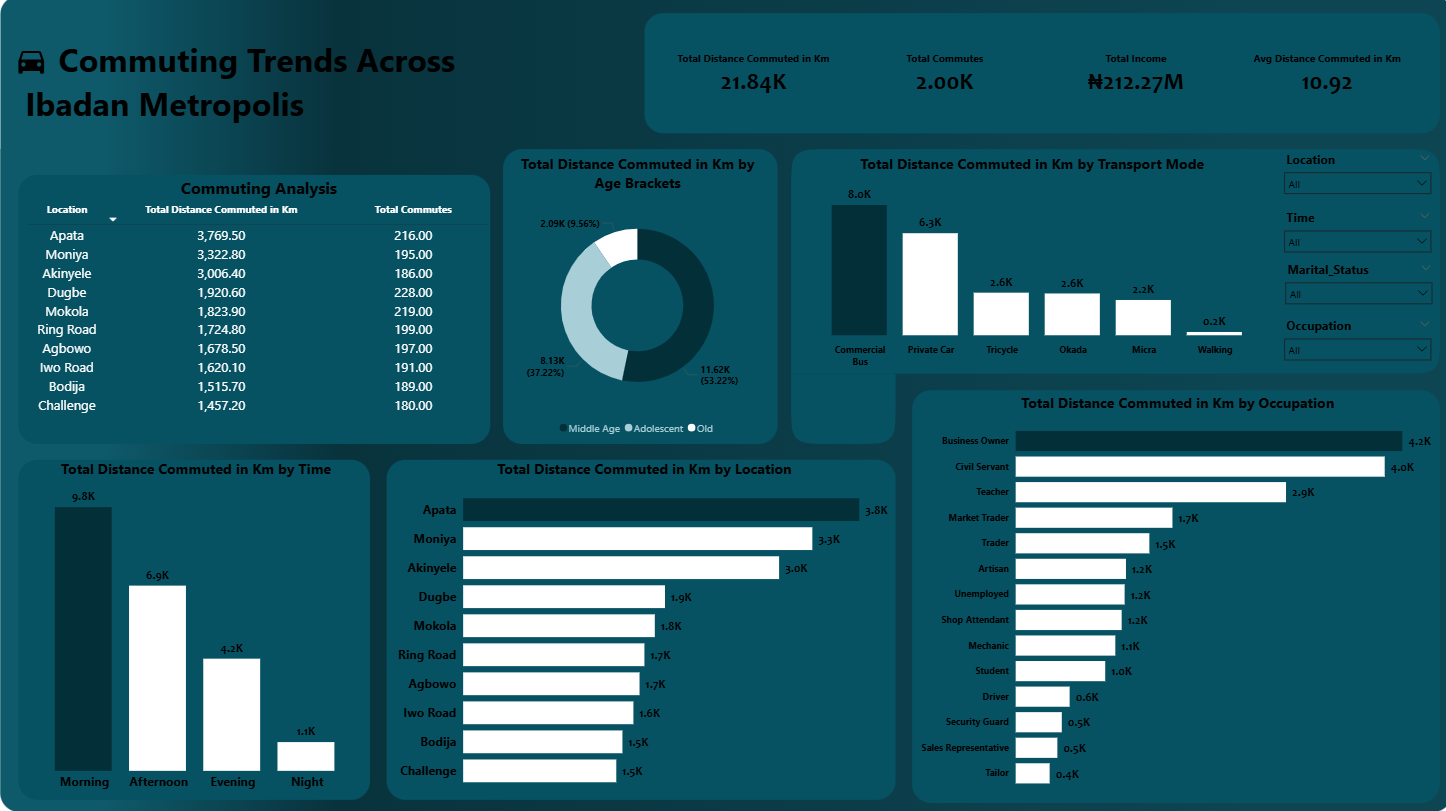

Layout of this report page (visuals, bound fields, positions):
{"tool":"powerbi","page":{"name":"Ibadan Commute","canvas":[1920,1080],"ordinal":0},"visuals":[{"type":"cardVisual","fields":{"Data":["_DAX.Total Distance Commuted","_DAX.Total Commutes","_DAX.Total Income","_DAX.Avg Distance Commuted"]},"box":[856.7,30.8,1039.4,139.4],"z":0},{"type":"textbox","box":[28.3,30,600,188.3],"z":1000},{"type":"donutChart","fields":{"Y":["_DAX.Total Distance Commuted in Km"],"Category":["Ibadan_commute.Age Brackets"]},"box":[665,206.7,358.3,381.7],"z":2000},{"type":"clusteredBarChart","fields":{"Category":["Ibadan_commute.Location"],"Y":["_DAX.Total Distance Commuted in Km"]},"box":[520,610,665,450],"z":3000},{"type":"clusteredColumnChart","fields":{"Category":["Ibadan_commute.Transport Mode"],"Y":["_DAX.Total Distance Commuted in Km"]},"box":[1043.3,206.7,645,291.7],"z":4000},{"type":"slicer","fields":{"Values":["Ibadan_commute.Occupation"]},"box":[1688.3,418.3,215,80],"z":5000},{"type":"slicer","fields":{"Values":["Ibadan_commute.Time"]},"box":[1688.3,275,215,70],"z":6000},{"type":"slicer","fields":{"Values":["Ibadan_commute.Location"]},"box":[1688.3,198.3,215,76.7],"z":7000},{"type":"slicer","fields":{"Values":["Ibadan_commute.Marital_Status"]},"box":[1690,345,215,73.3],"z":8000},{"type":"tableEx","title":"Commuting Analysis","fields":{"Values":["Ibadan_commute.Location","_DAX.Total Distance Commuted in Km","_DAX.Total Commutes"]},"box":[31,237,622,354],"z":9000},{"type":"clusteredColumnChart","fields":{"Category":["Ibadan_commute.Time"],"Y":["_DAX.Total Distance Commuted in Km"]},"box":[28.3,610,461.7,450],"z":10000},{"type":"clusteredBarChart","fields":{"Category":["Ibadan_commute.Occupation"],"Y":["_DAX.Total Distance Commuted in Km"]},"box":[1213.3,523.3,690,536.7],"z":11000}]}

Visuals, with their boxes in screenshot pixels (x1, y1, x2, y2), scaled from the page's 1920x1080 canvas onto the 1446x811 screenshot:
cardVisual - _DAX.Total Distance Commuted x _DAX.Total Commutes: <region>645, 23, 1428, 128</region>
textbox: <region>21, 23, 473, 164</region>
donutChart - _DAX.Total Distance Commuted in Km x Ibadan_commute.Age Brackets: <region>501, 155, 771, 442</region>
clusteredBarChart - Ibadan_commute.Location x _DAX.Total Distance Commuted in Km: <region>392, 458, 892, 796</region>
clusteredColumnChart - Ibadan_commute.Transport Mode x _DAX.Total Distance Commuted in Km: <region>786, 155, 1272, 374</region>
slicer - Ibadan_commute.Occupation: <region>1272, 314, 1433, 374</region>
slicer - Ibadan_commute.Time: <region>1272, 207, 1433, 259</region>
slicer - Ibadan_commute.Location: <region>1272, 149, 1433, 207</region>
slicer - Ibadan_commute.Marital_Status: <region>1273, 259, 1435, 314</region>
"Commuting Analysis" tableEx: <region>23, 178, 492, 444</region>
clusteredColumnChart - Ibadan_commute.Time x _DAX.Total Distance Commuted in Km: <region>21, 458, 369, 796</region>
clusteredBarChart - Ibadan_commute.Occupation x _DAX.Total Distance Commuted in Km: <region>914, 393, 1433, 796</region>
